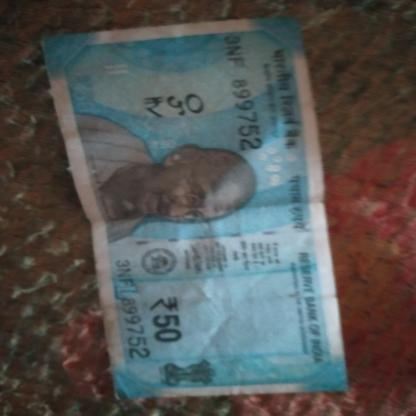New50Front: (43, 33, 339, 398)
